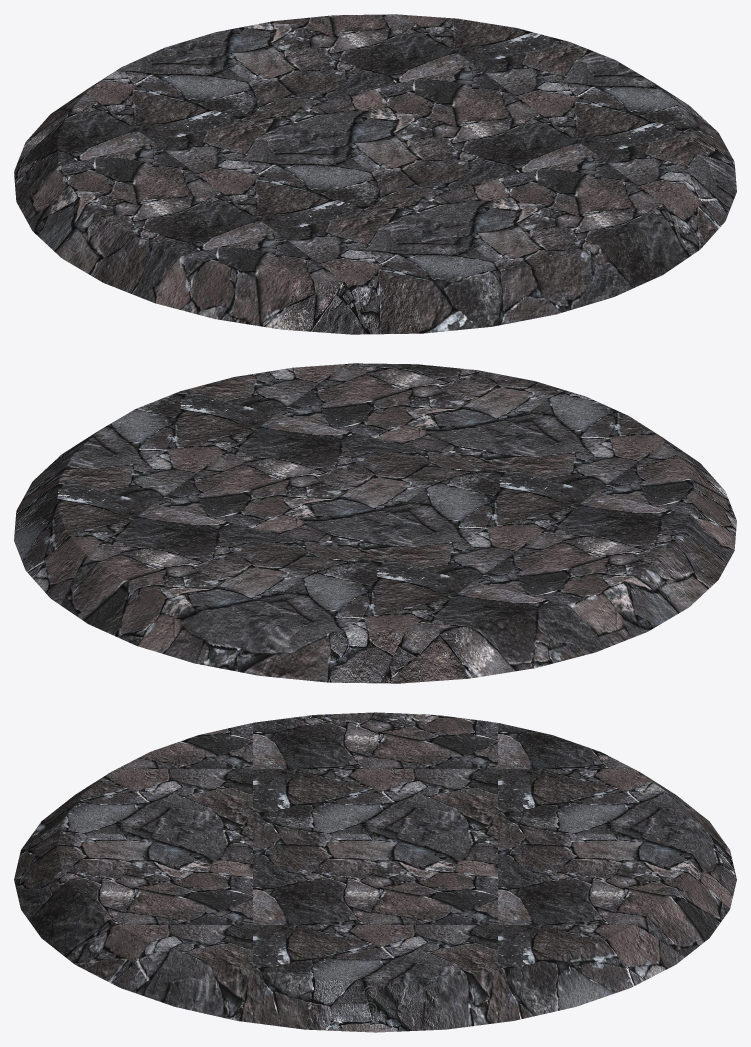
File: piso.fbx
The picture shows the model from 3 angles, top to bottom: view 1: azimuth 30°, elevation 25°; view 2: azimuth 150°, elevation 25°; view 3: azimuth 270°, elevation 25°; orthographic projection.
Parts seen in each view (by area): view 1: Cylinder; view 2: Cylinder; view 3: Cylinder.
Part boxes in pixels (x1,y1,x2,y2): Cylinder: [14, 14, 736, 334]; Cylinder: [14, 363, 736, 683]; Cylinder: [14, 712, 736, 1032].
Size of the model in its own units: 600 by 30 by 600.
